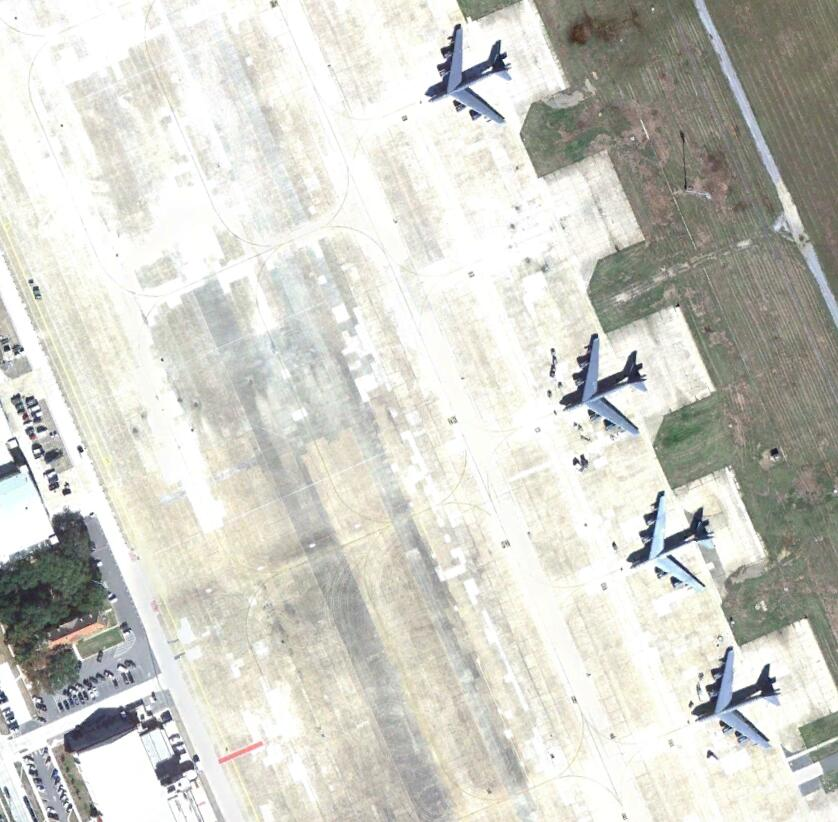A8: (423, 22, 522, 127), (558, 333, 657, 438), (692, 646, 787, 755), (627, 484, 720, 595)
